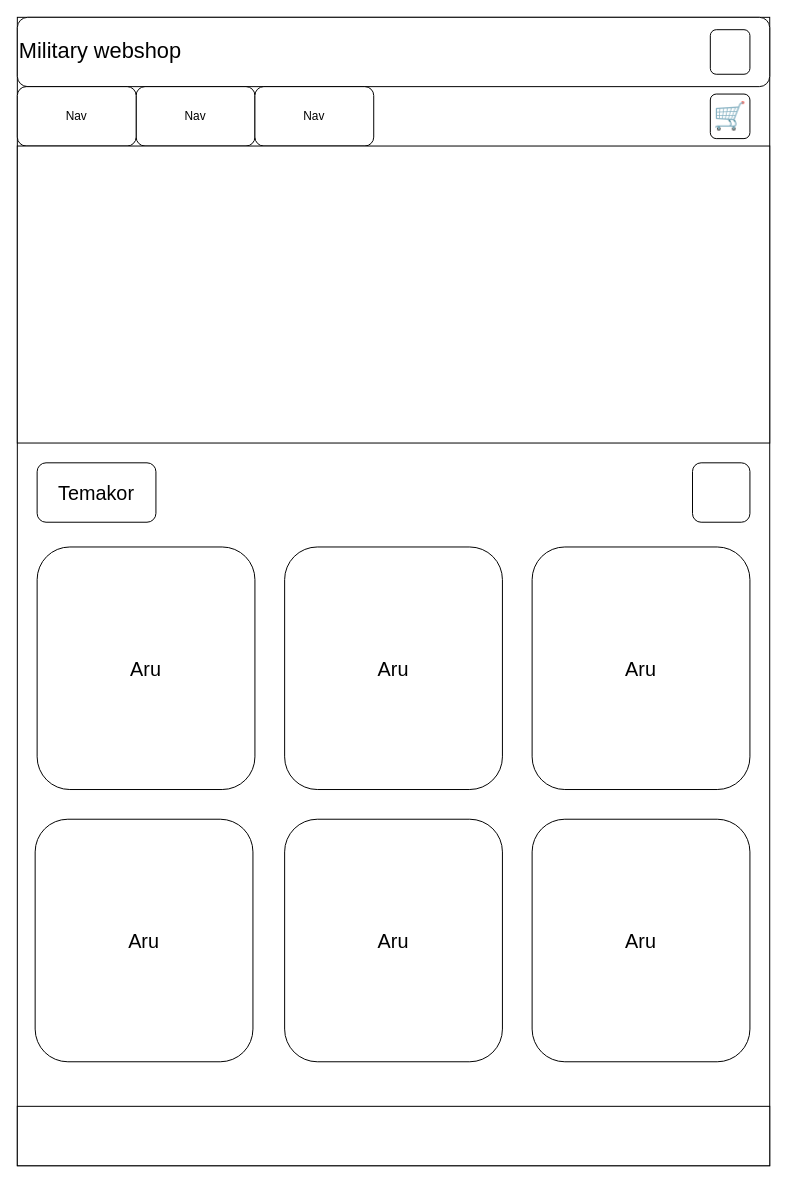
Image size: 787x1183. Some labels were removed from this diagram. The box of each missing label's shape, as (x1, y1, x2, y2) in pixels:
Adatok: (709, 29, 750, 74)
Footer: (16, 1105, 770, 1166)
High lights: (16, 145, 770, 443)
Szuro: (692, 462, 750, 522)
